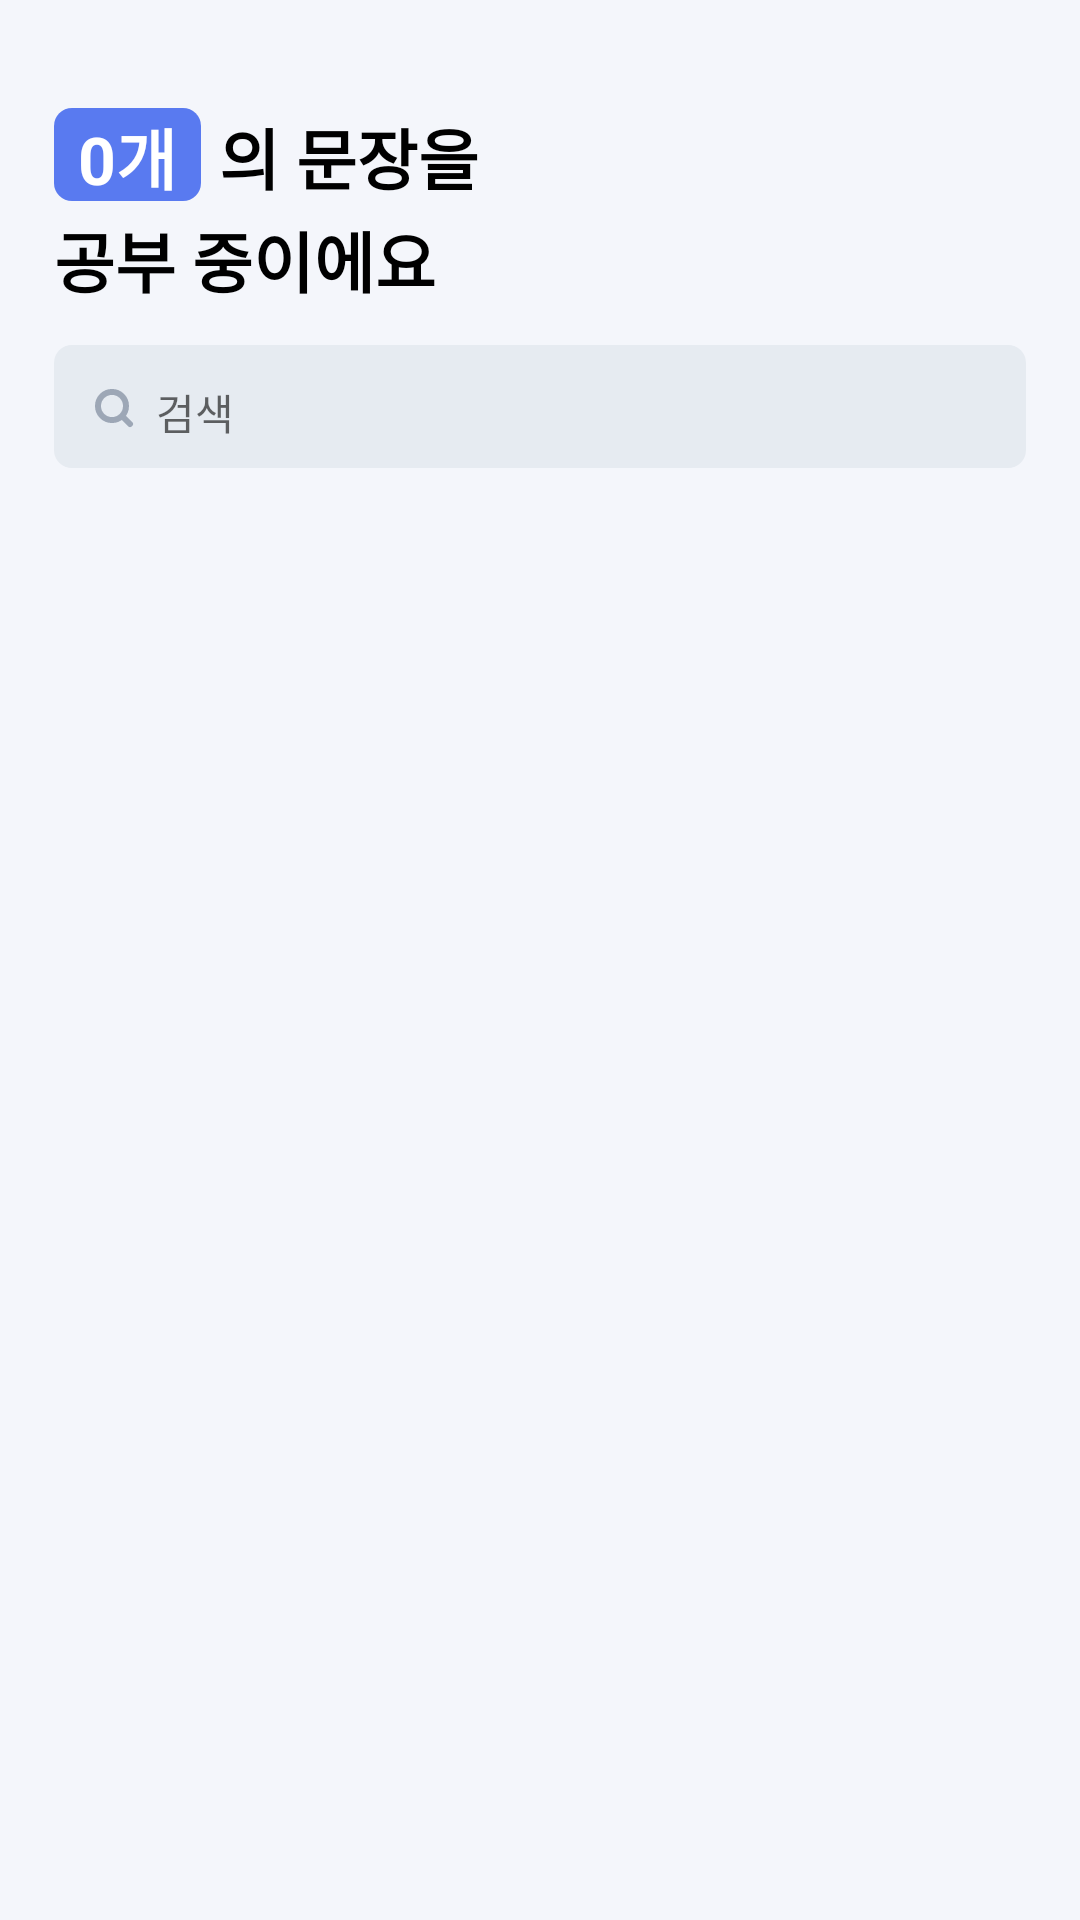

Where icons sit on this 1080px x 1920px app screen, as (x1, y1, x2, y2):
search: (95, 389, 133, 427)
